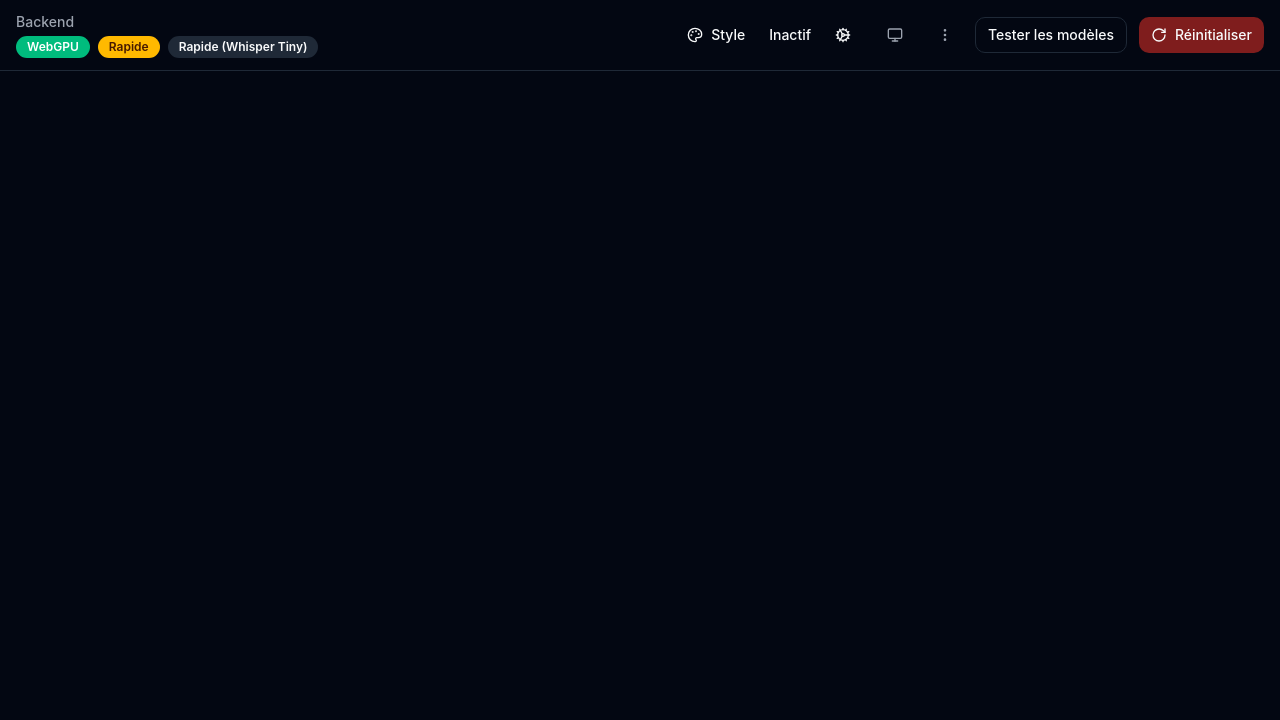
Test: Topbar › toggles the APP visual style from the topbar
The image size is (1280, 720).
What coordinates should you click on to do the following:
click the button with aria-label "Activer le style APP"
I would click on:
 (716, 35)
Its box is [675,17,757,53].
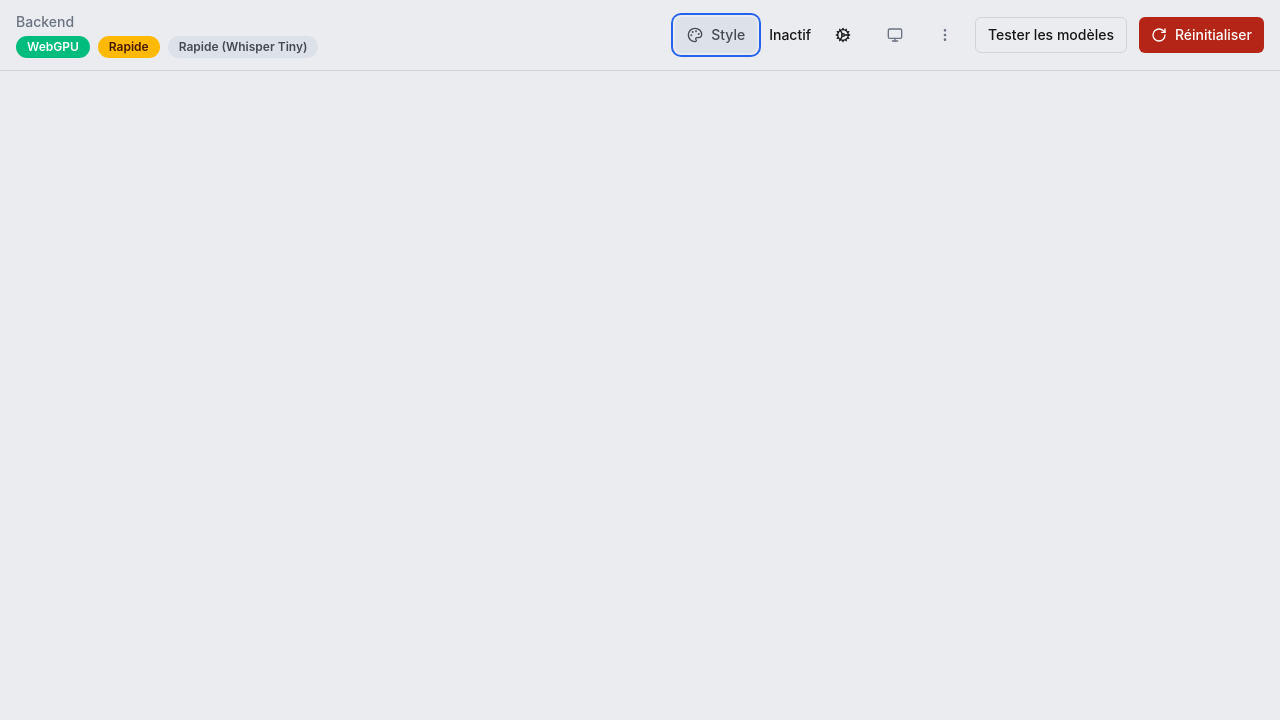
expect the button with aria-label "Revenir au style par défaut" is shown: met
What coordinates should you click on to do the following:
click the button with aria-label "Revenir au style par défaut"
I would click on:
 (716, 35)
Its box is [675,17,757,53].
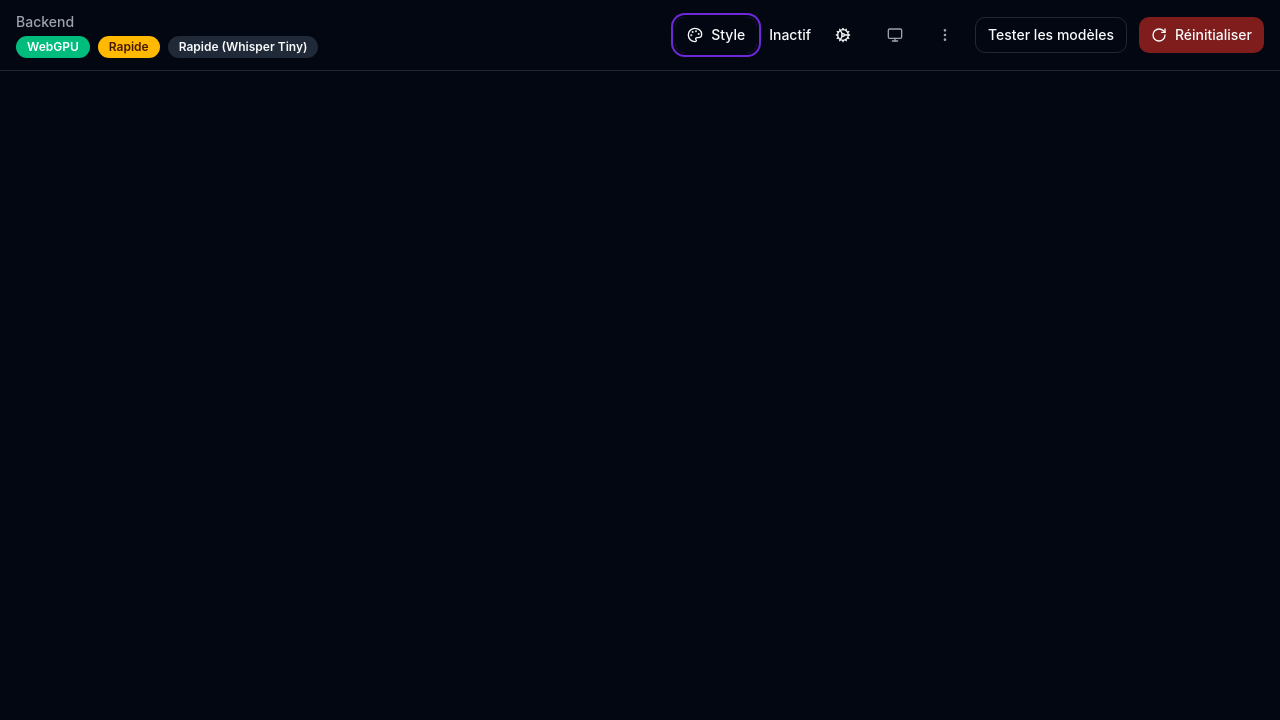
expect the button with aria-label "Activer le style APP" is shown: met, box [675,17,757,53]
